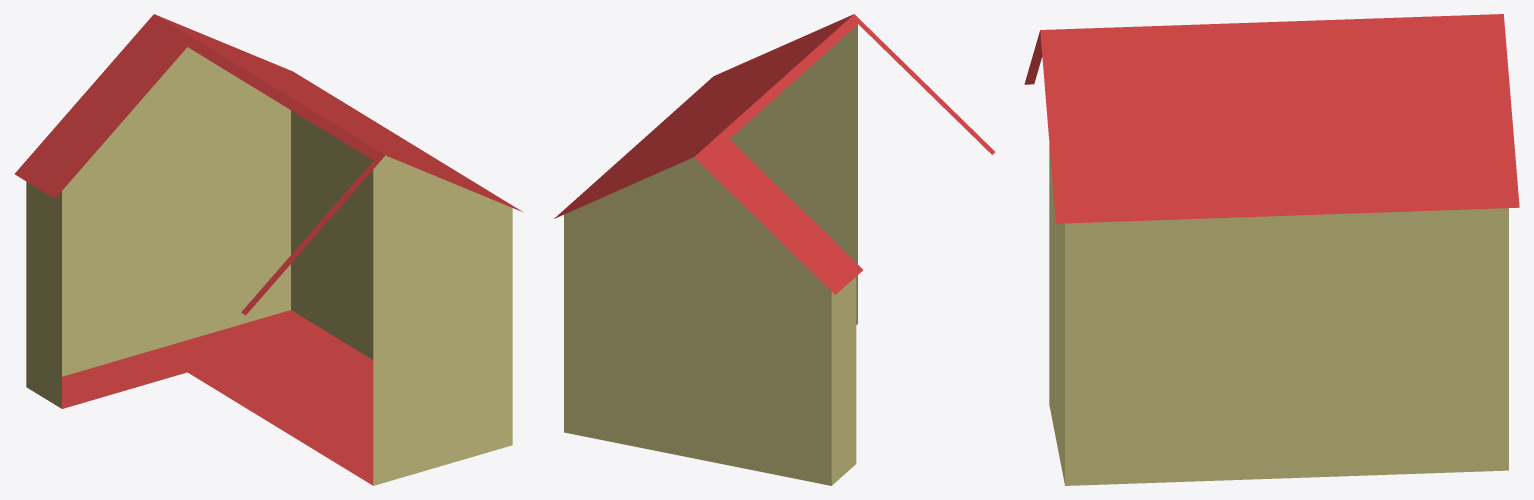
3 views of the same model, side by side, from view 1: azimuth 30°, elevation 25°; view 2: azimuth 150°, elevation 25°; view 3: azimuth 270°, elevation 25° (orthographic). The views are drawn at different scales.
Size of the model in its own units: 10.69 by 12.48 by 10.54.
